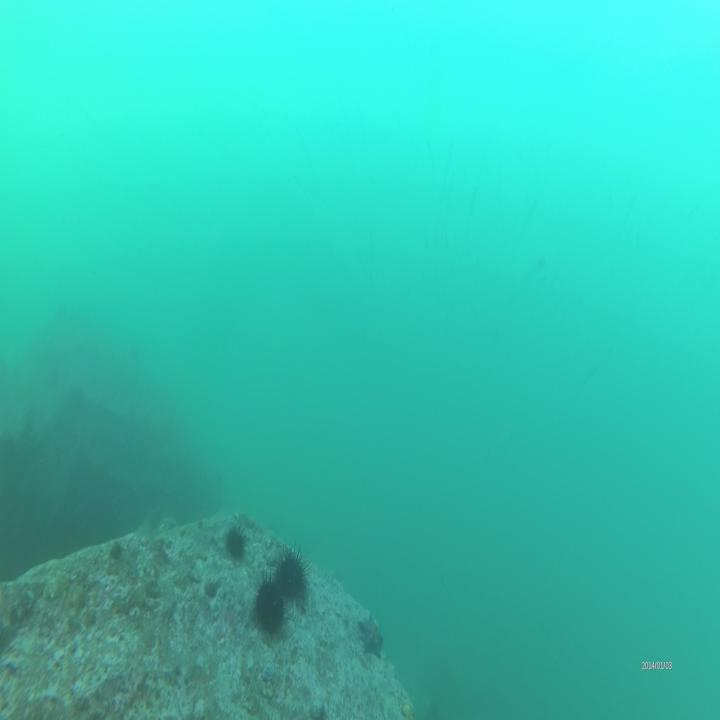echinus: (272, 539, 314, 608), (250, 573, 292, 641), (220, 522, 250, 557)
starfish: (358, 605, 388, 663)
